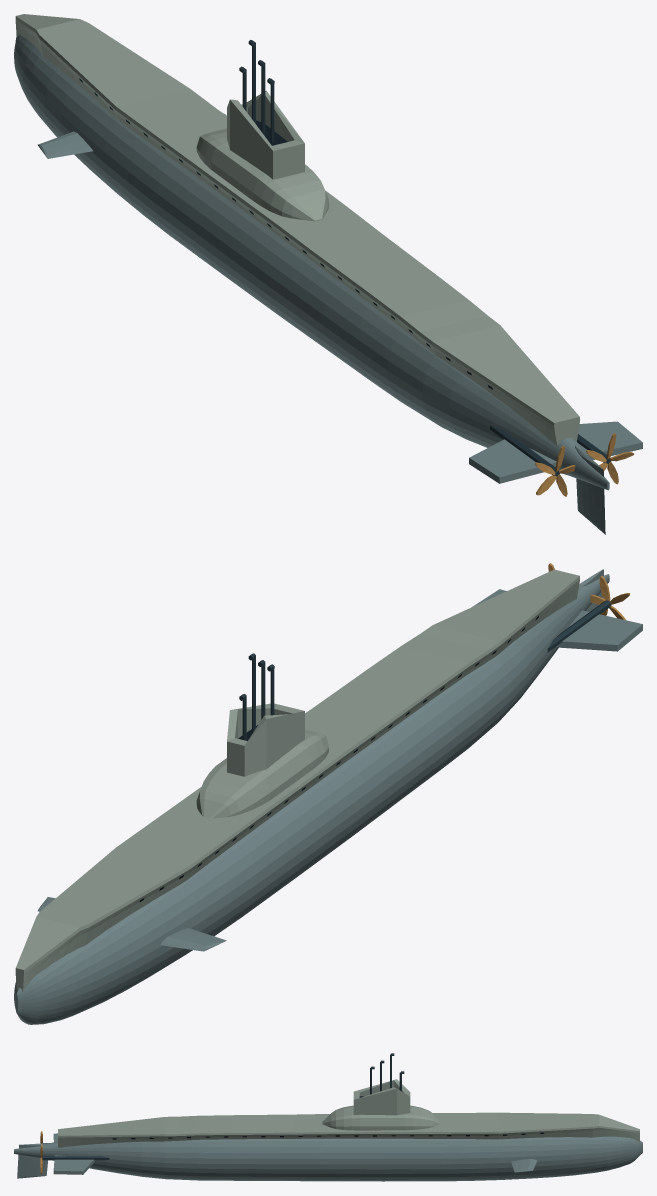
Rendered from archive-type-035g.glb.
The picture shows the model from 3 angles, top to bottom: view 1: azimuth 30°, elevation 25°; view 2: azimuth 150°, elevation 25°; view 3: azimuth 270°, elevation 25°; orthographic projection. The views are drawn at different scales.
Parts seen in each view (by area): view 1: archive-type-035g-pressure_hull.004-geometry, archive-type-035g-cruise_deck.003-geometry, archive-type-035g-submarine_sail.004-geometry, archive-type-035g-lowerFairwater-geometry, archive-type-035g-stern_plane_-1-geometry, archive-type-035g-stern_plane_1-geometry, archive-type-035g-steering_rudder_0-geometry, archive-type-035g-screw_0.004-geometry, archive-type-035g-diving_plane_-1.004-geometry, archive-type-035g-screw_1-geometry; view 2: archive-type-035g-pressure_hull.004-geometry, archive-type-035g-cruise_deck.003-geometry, archive-type-035g-submarine_sail.004-geometry, archive-type-035g-lowerFairwater-geometry, archive-type-035g-stern_plane_-1-geometry, archive-type-035g-screw_0.004-geometry, archive-type-035g-diving_plane_-1.004-geometry; view 3: archive-type-035g-pressure_hull.004-geometry, archive-type-035g-cruise_deck.003-geometry, archive-type-035g-lowerFairwater-geometry, archive-type-035g-submarine_sail.004-geometry, archive-type-035g-steering_rudder_0-geometry, archive-type-035g-stern_plane_1-geometry, archive-type-035g-screw_1-geometry, archive-type-035g-diving_plane_1.004-geometry, archive-type-035g-flood_openings.003-geometry.
Boxes of the visible parts, x1=… form: archive-type-035g-pressure_hull.004-geometry: x1=14, y1=34, x2=609, y2=490; archive-type-035g-cruise_deck.003-geometry: x1=15, y1=14, x2=579, y2=445; archive-type-035g-submarine_sail.004-geometry: x1=227, y1=40, x2=304, y2=179; archive-type-035g-lowerFairwater-geometry: x1=196, y1=128, x2=328, y2=221; archive-type-035g-stern_plane_-1-geometry: x1=469, y1=439, x2=556, y2=483; archive-type-035g-stern_plane_1-geometry: x1=578, y1=421, x2=642, y2=459; archive-type-035g-steering_rudder_0-geometry: x1=574, y1=445, x2=605, y2=534; archive-type-035g-screw_0.004-geometry: x1=489, y1=425, x2=575, y2=496; archive-type-035g-diving_plane_-1.004-geometry: x1=37, y1=131, x2=92, y2=158; archive-type-035g-screw_1-geometry: x1=577, y1=433, x2=634, y2=484; archive-type-035g-pressure_hull.004-geometry: x1=14, y1=574, x2=609, y2=1024; archive-type-035g-cruise_deck.003-geometry: x1=15, y1=569, x2=579, y2=991; archive-type-035g-submarine_sail.004-geometry: x1=227, y1=653, x2=304, y2=776; archive-type-035g-lowerFairwater-geometry: x1=196, y1=729, x2=328, y2=818; archive-type-035g-stern_plane_-1-geometry: x1=556, y1=610, x2=642, y2=651; archive-type-035g-screw_0.004-geometry: x1=547, y1=575, x2=629, y2=652; archive-type-035g-diving_plane_-1.004-geometry: x1=161, y1=928, x2=226, y2=951; archive-type-035g-pressure_hull.004-geometry: x1=14, y1=1136, x2=642, y2=1181; archive-type-035g-cruise_deck.003-geometry: x1=58, y1=1112, x2=639, y2=1147; archive-type-035g-lowerFairwater-geometry: x1=322, y1=1105, x2=440, y2=1130; archive-type-035g-submarine_sail.004-geometry: x1=353, y1=1053, x2=410, y2=1115; archive-type-035g-steering_rudder_0-geometry: x1=17, y1=1143, x2=49, y2=1178; archive-type-035g-stern_plane_1-geometry: x1=53, y1=1155, x2=94, y2=1174; archive-type-035g-screw_1-geometry: x1=40, y1=1144, x2=109, y2=1173; archive-type-035g-diving_plane_1.004-geometry: x1=511, y1=1159, x2=536, y2=1172; archive-type-035g-flood_openings.003-geometry: x1=112, y1=1132, x2=544, y2=1139.
Size of the model in its own units: 1.75 by 2.2 by 10.
